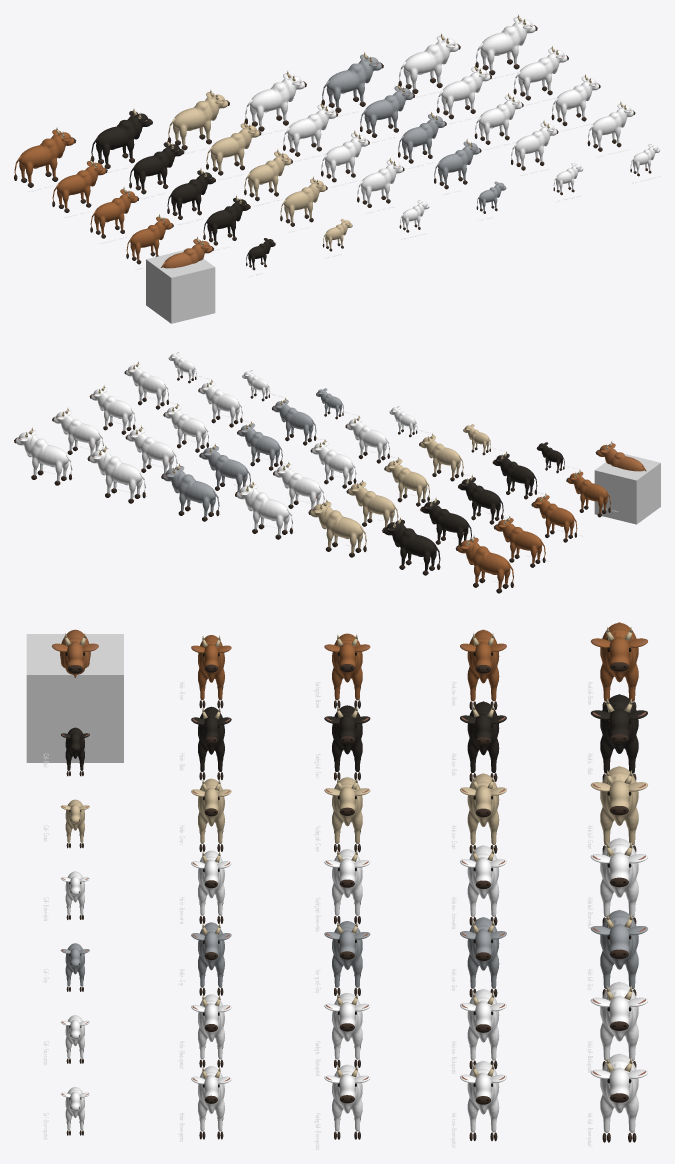
Rendered from cow.glb.
3 renders of one model, top to bottom at view 1: azimuth 30°, elevation 25°; view 2: azimuth 150°, elevation 25°; view 3: azimuth 270°, elevation 25°, orthographic. The views are drawn at different scales.
Parts seen in each view (by area): view 1: Cube, Adult bull - Gray body, Adult bull - Black-spotted body, Adult bull - Cream body, Adult bull - Brown body, Adult bull - Brown-white body, Adult bull - Brown-spotted body, Adult bull - Black body, Adult cow - Black-spotted body, Adult cow - Black body, Adult cow - Brown-spotted body, Adult cow - Brown-white body (+17 smaller); view 2: Cube, Adult bull - Black body, Adult bull - Gray body, Adult bull - Brown body, Adult bull - Brown-spotted body, Adult bull - Cream body, Adult bull - Black-spotted body, Adult bull - Brown-white body, Adult cow - Brown-spotted body, Adult cow - Brown-white body, Adult cow - Brown body, Adult cow - Black body (+17 smaller); view 3: Cube, Adult bull - Brown-spotted body, Adult bull - Black body, Adult bull - Black-spotted body, Adult bull - Brown-white body, Adult bull - Cream body, Adult bull - Brown body, Adult bull - Gray body, Adult cow - Cream body, Adult cow - Brown body, Adult cow - Gray body, Adult cow - Black body (+17 smaller).
Boxes of the visible parts, x1=… form: Cube: x1=146, y1=250, x2=215, y2=323; Adult bull - Gray body: x1=326, y1=57, x2=381, y2=108; Adult bull - Black-spotted body: x1=403, y1=38, x2=458, y2=89; Adult bull - Cream body: x1=173, y1=94, x2=227, y2=145; Adult bull - Brown body: x1=19, y1=132, x2=74, y2=183; Adult bull - Brown-white body: x1=249, y1=76, x2=304, y2=126; Adult bull - Brown-spotted body: x1=480, y1=19, x2=535, y2=70; Adult bull - Black body: x1=96, y1=113, x2=150, y2=164; Adult cow - Black-spotted body: x1=441, y1=69, x2=490, y2=114; Adult cow - Black body: x1=133, y1=144, x2=182, y2=189; Adult cow - Brown-spotted body: x1=518, y1=50, x2=567, y2=96; Adult cow - Brown-white body: x1=287, y1=106, x2=336, y2=152; Cube: x1=594, y1=454, x2=660, y2=524; Adult bull - Black body: x1=384, y1=522, x2=436, y2=570; Adult bull - Gray body: x1=163, y1=468, x2=215, y2=517; Adult bull - Brown body: x1=457, y1=540, x2=510, y2=588; Adult bull - Brown-spotted body: x1=16, y1=432, x2=68, y2=481; Adult bull - Cream body: x1=310, y1=504, x2=362, y2=553; Adult bull - Black-spotted body: x1=89, y1=450, x2=142, y2=499; Adult bull - Brown-white body: x1=236, y1=486, x2=289, y2=535; Adult cow - Brown-spotted body: x1=53, y1=412, x2=100, y2=455; Adult cow - Brown-white body: x1=274, y1=466, x2=321, y2=509; Adult cow - Brown body: x1=495, y1=520, x2=542, y2=563; Adult cow - Black body: x1=422, y1=502, x2=468, y2=545; Cube: x1=26, y1=634, x2=123, y2=762; Adult bull - Brown-spotted body: x1=600, y1=1054, x2=638, y2=1132; Adult bull - Black body: x1=600, y1=694, x2=638, y2=773; Adult bull - Black-spotted body: x1=600, y1=982, x2=638, y2=1060; Adult bull - Brown-white body: x1=600, y1=838, x2=638, y2=917; Adult bull - Cream body: x1=600, y1=766, x2=638, y2=845; Adult bull - Brown body: x1=600, y1=623, x2=638, y2=701; Adult bull - Gray body: x1=600, y1=910, x2=638, y2=988; Adult cow - Cream body: x1=467, y1=773, x2=499, y2=844; Adult cow - Brown body: x1=467, y1=630, x2=499, y2=701; Adult cow - Gray body: x1=467, y1=917, x2=499, y2=988; Adult cow - Black body: x1=467, y1=701, x2=499, y2=772.
Size of the model in its own units: 23.72 by 3.09 by 12.79.
